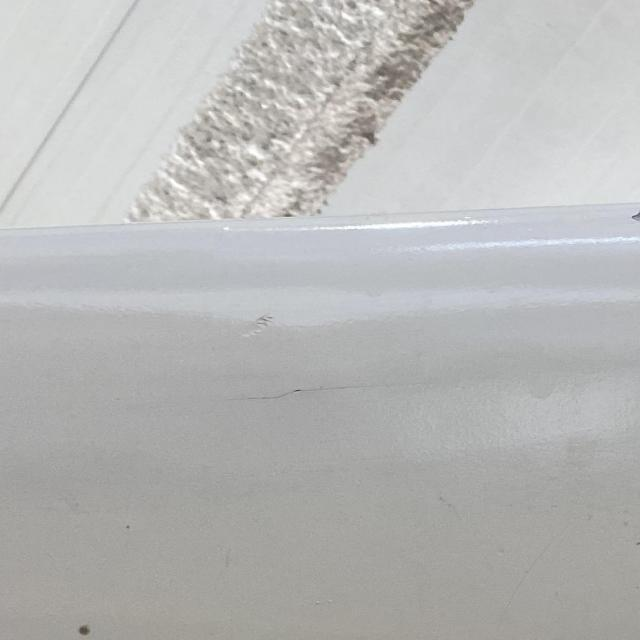Paint-off: (631, 208, 640, 221)
